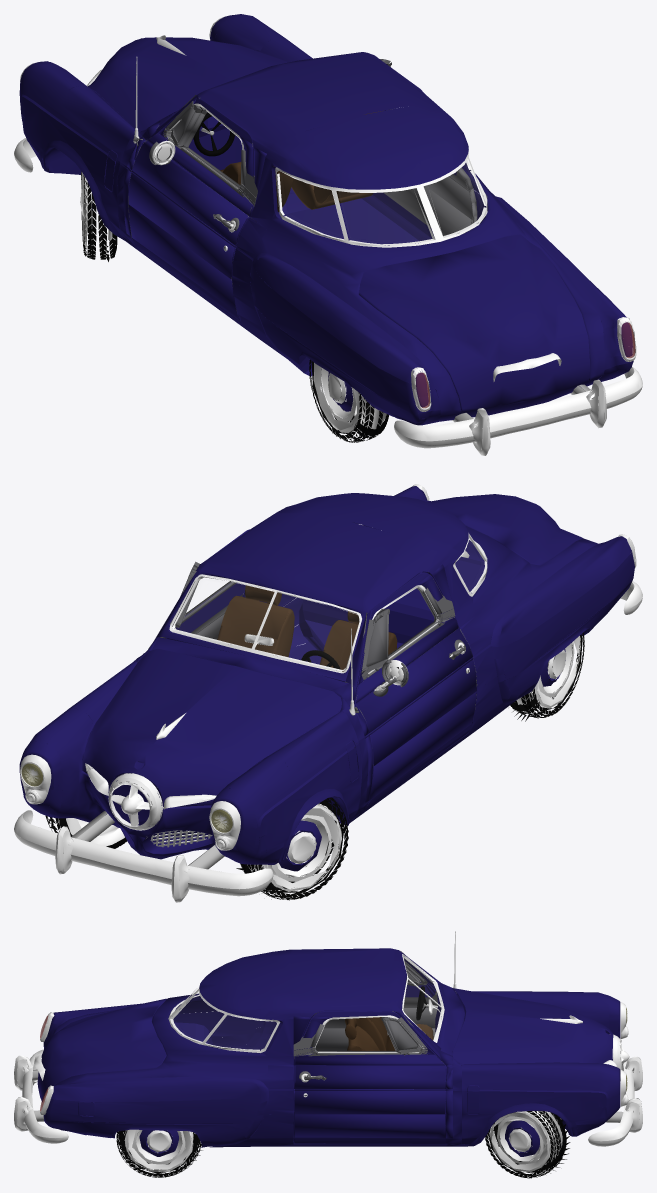
Rendered from starlite.glb.
The picture shows the model from 3 angles, top to bottom: view 1: azimuth 30°, elevation 25°; view 2: azimuth 150°, elevation 25°; view 3: azimuth 270°, elevation 25°; orthographic projection. The views are drawn at different scales.
Visible parts, largest first — view 1: body, door_FL, wheel_RL, door_FR, wheel_FL; view 2: body, door_FL, wheel_FL, wheel_RL, door_FR, wheel_FR; view 3: body, door_FR, wheel_FR, wheel_RR, door_FL.
Part boxes in pixels (x1,y1,x2,y2): body: [14, 14, 642, 455]; door_FL: [123, 95, 266, 312]; wheel_RL: [309, 359, 388, 442]; door_FR: [380, 59, 477, 237]; wheel_FL: [80, 171, 117, 261]; body: [14, 484, 642, 902]; door_FL: [333, 564, 477, 803]; wheel_FL: [236, 797, 348, 900]; wheel_RL: [510, 632, 584, 721]; door_FR: [140, 561, 245, 656]; wheel_FR: [45, 816, 126, 848]; body: [14, 931, 642, 1147]; door_FR: [293, 1012, 452, 1138]; wheel_FR: [485, 1111, 570, 1178]; wheel_RR: [116, 1129, 202, 1177]; door_FL: [313, 951, 453, 1050].
Bounding box in the file's own units: 1.78 × 1.56 × 5.06.
